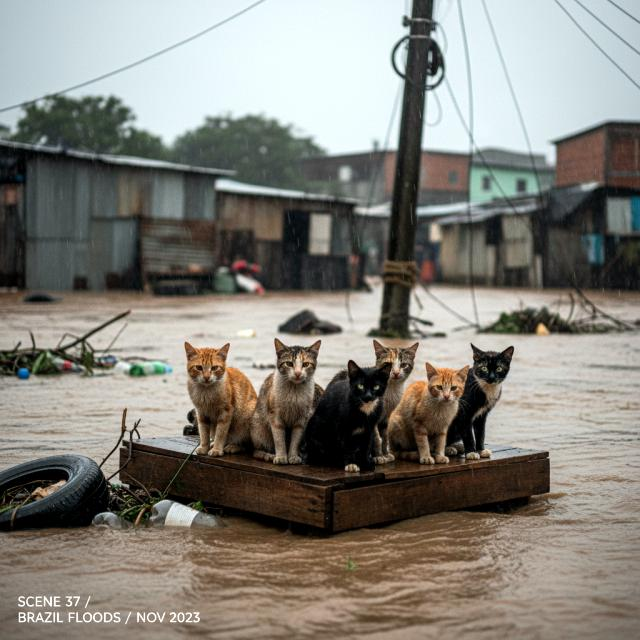cat: (175, 336, 269, 464), (311, 351, 393, 476), (249, 333, 324, 464), (388, 355, 472, 469), (446, 336, 522, 460), (368, 337, 424, 464)
